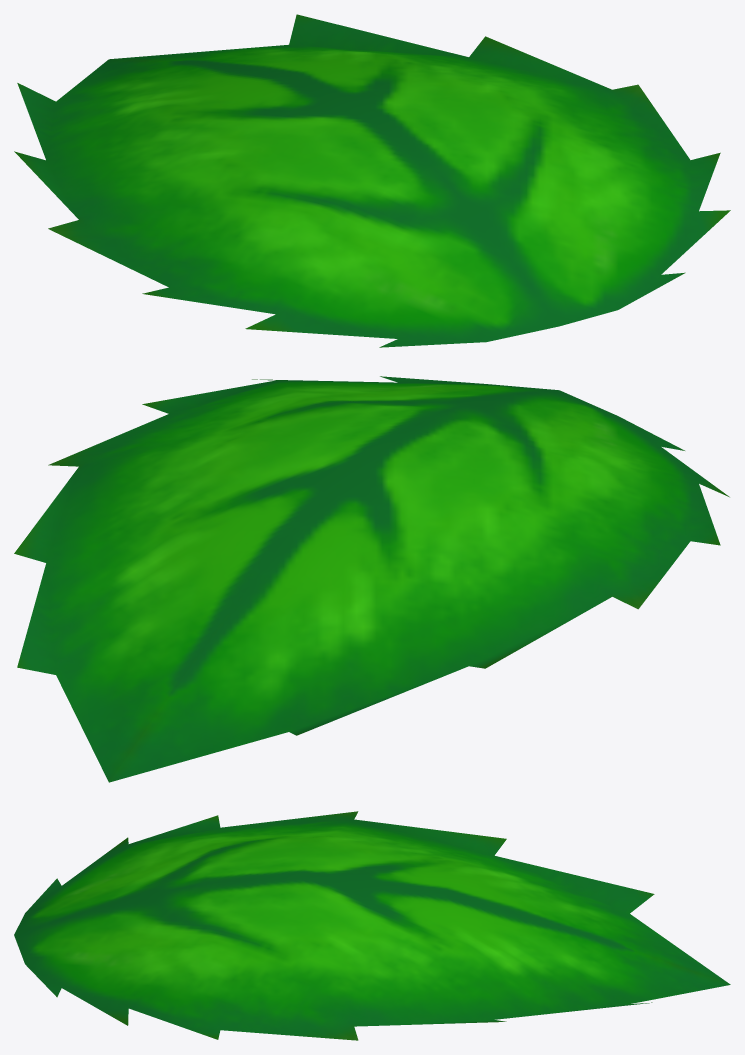
Rendered from leaf-mint.fbx.
3 views of the same model, one above another, from view 1: azimuth 30°, elevation 25°; view 2: azimuth 150°, elevation 25°; view 3: azimuth 270°, elevation 25° (orthographic). The views are drawn at different scales.
Visible parts, largest first — view 1: leaf-mint; view 2: leaf-mint; view 3: leaf-mint.
Boxes of the visible parts, x1,y1,x2,y2 form: leaf-mint: (14,14,730,347); leaf-mint: (14,376,729,782); leaf-mint: (14,811,730,1040).
Size of the model in its own units: 205 by 45.75 by 271.
